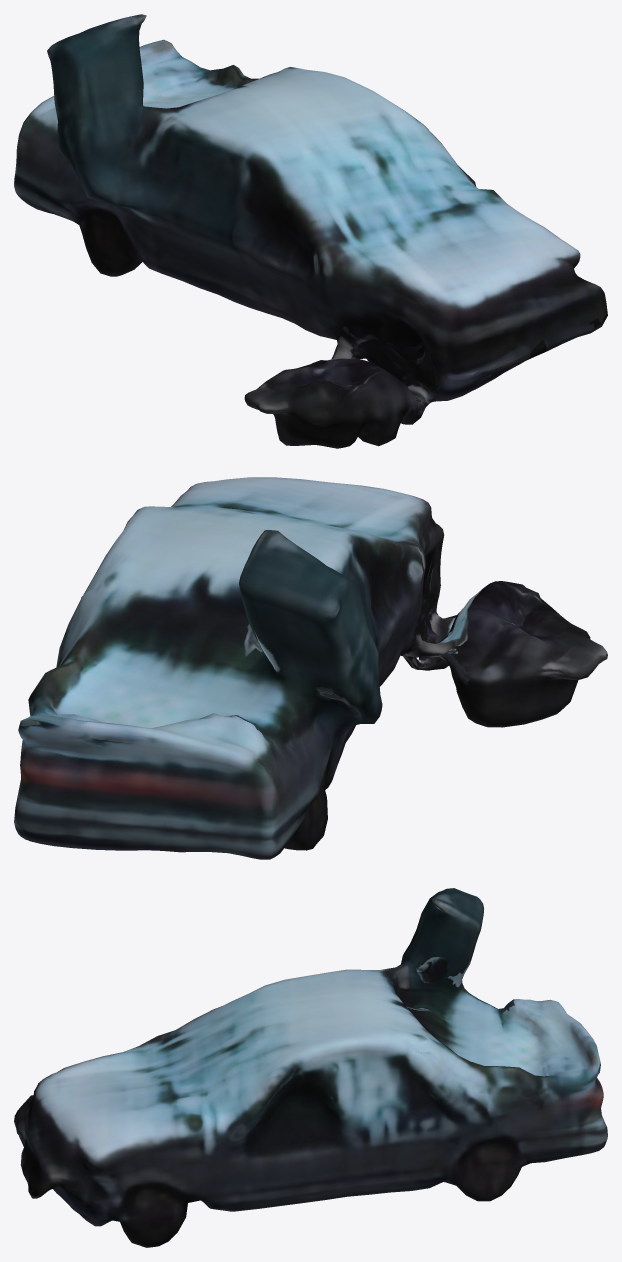
File: abandoned_car01.glb
The picture shows the model from 3 angles, top to bottom: view 1: azimuth 30°, elevation 25°; view 2: azimuth 150°, elevation 25°; view 3: azimuth 270°, elevation 25°; orthographic projection. The views are drawn at different scales.
Visible parts, largest first — view 1: mesh; view 2: mesh; view 3: mesh.
Boxes of the visible parts, x1,y1,x2,y2 form: mesh: (14, 14, 607, 448); mesh: (14, 477, 607, 859); mesh: (14, 888, 607, 1247).
Bounding box in the file's own units: 0.591 × 0.4789 × 0.9966.
1 material, 1 textured.
